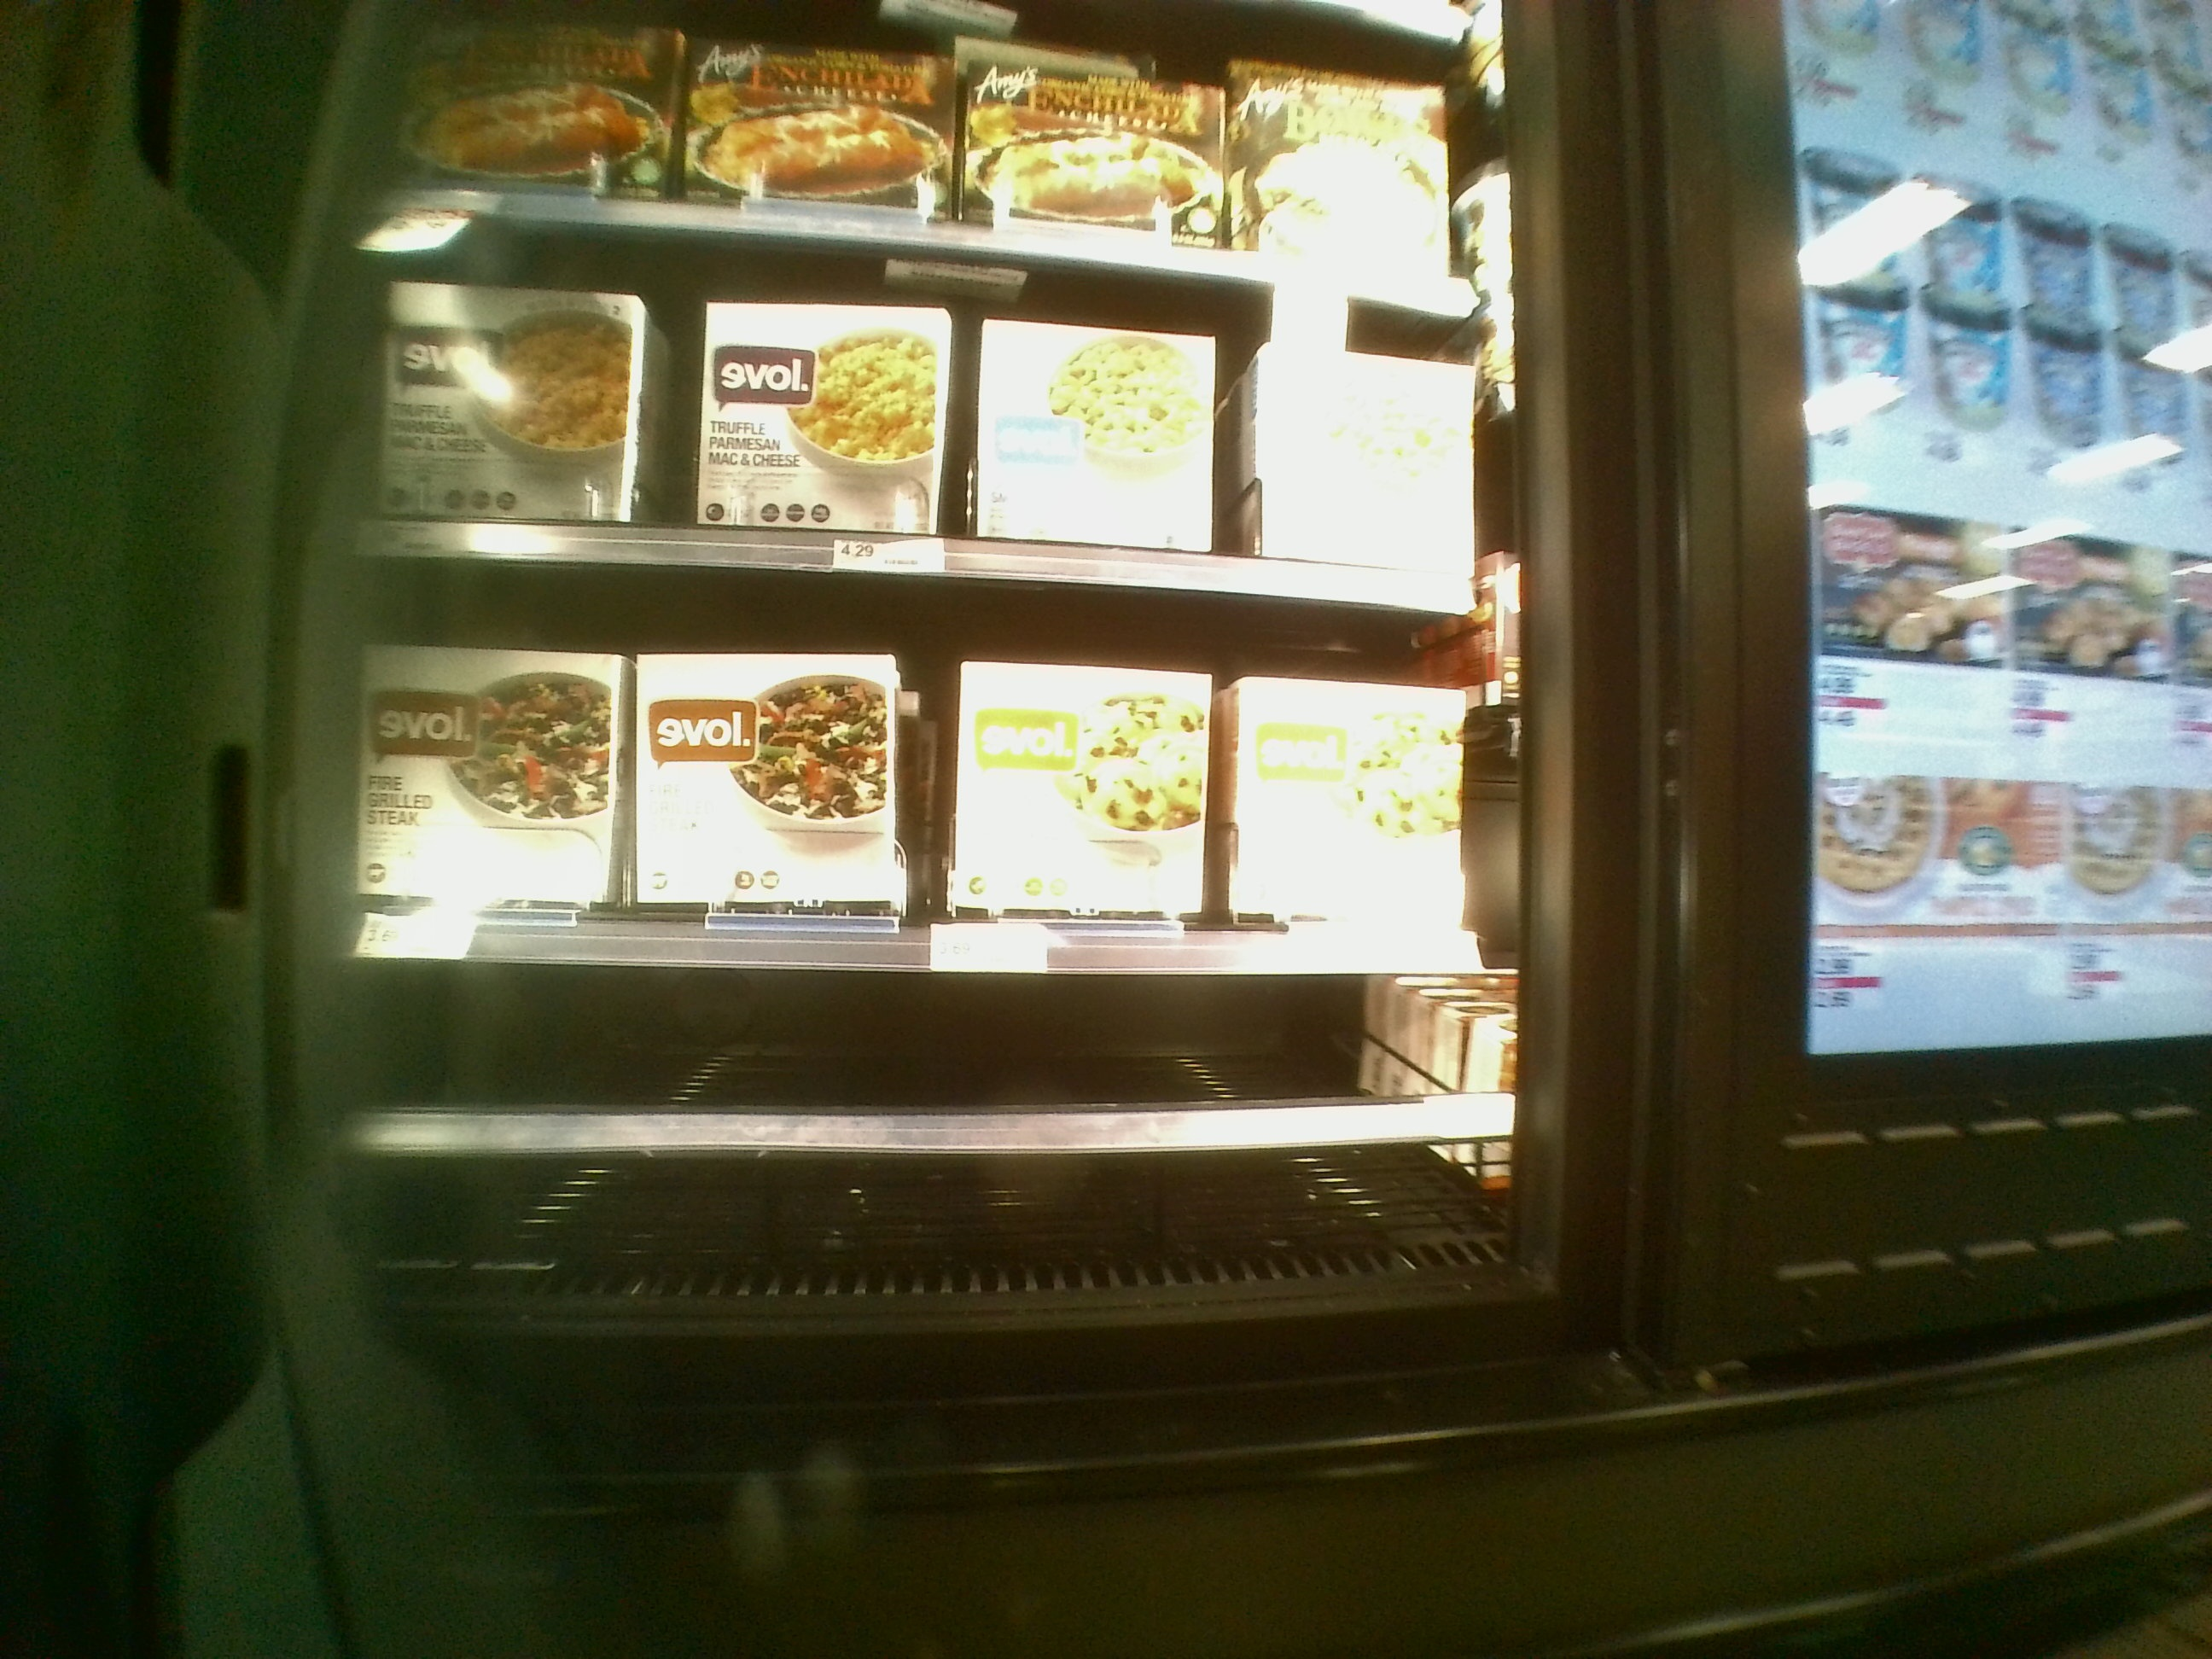shelf: (354, 603, 1517, 967), (368, 972, 1529, 1295), (357, 277, 1501, 594)
